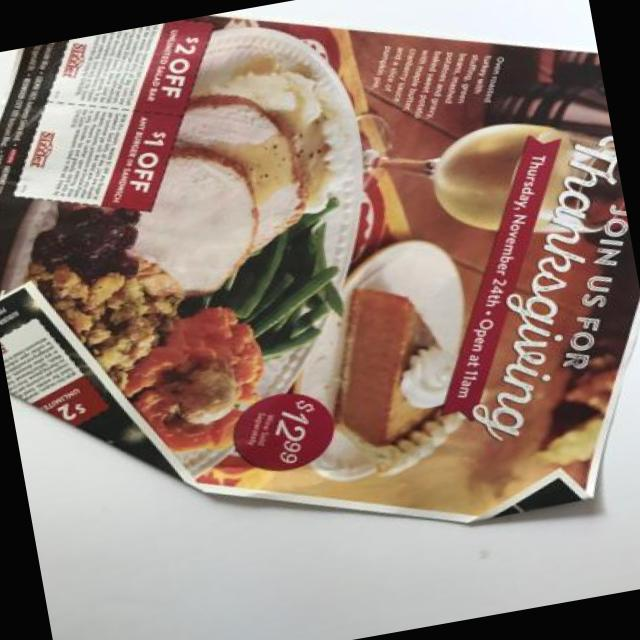paper: (0, 32, 640, 511)
